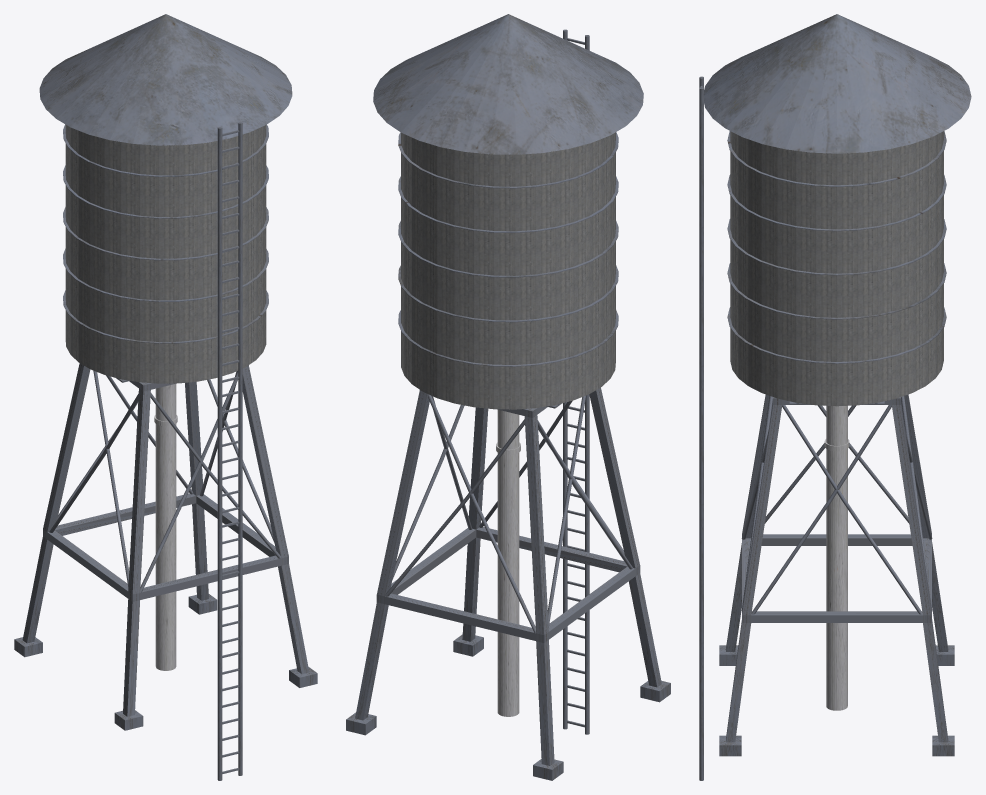
3 renders of one model, left to right at view 1: azimuth 30°, elevation 25°; view 2: azimuth 150°, elevation 25°; view 3: azimuth 270°, elevation 25°, orthographic. The views are drawn at different scales.
Visible parts, largest first — view 1: tank_2, ladder_3; view 2: tank_2, ladder_3; view 3: tank_2, ladder_3.
Boxes of the visible parts, x1,y1,x2,y2 form: tank_2: [14, 14, 317, 730]; ladder_3: [217, 122, 242, 780]; tank_2: [346, 14, 670, 780]; ladder_3: [563, 29, 589, 734]; tank_2: [704, 14, 971, 756]; ladder_3: [699, 76, 703, 780].
Size of the model in its own units: 2.52 by 7.86 by 2.55.
Materials: 4 (4 with a texture image).
